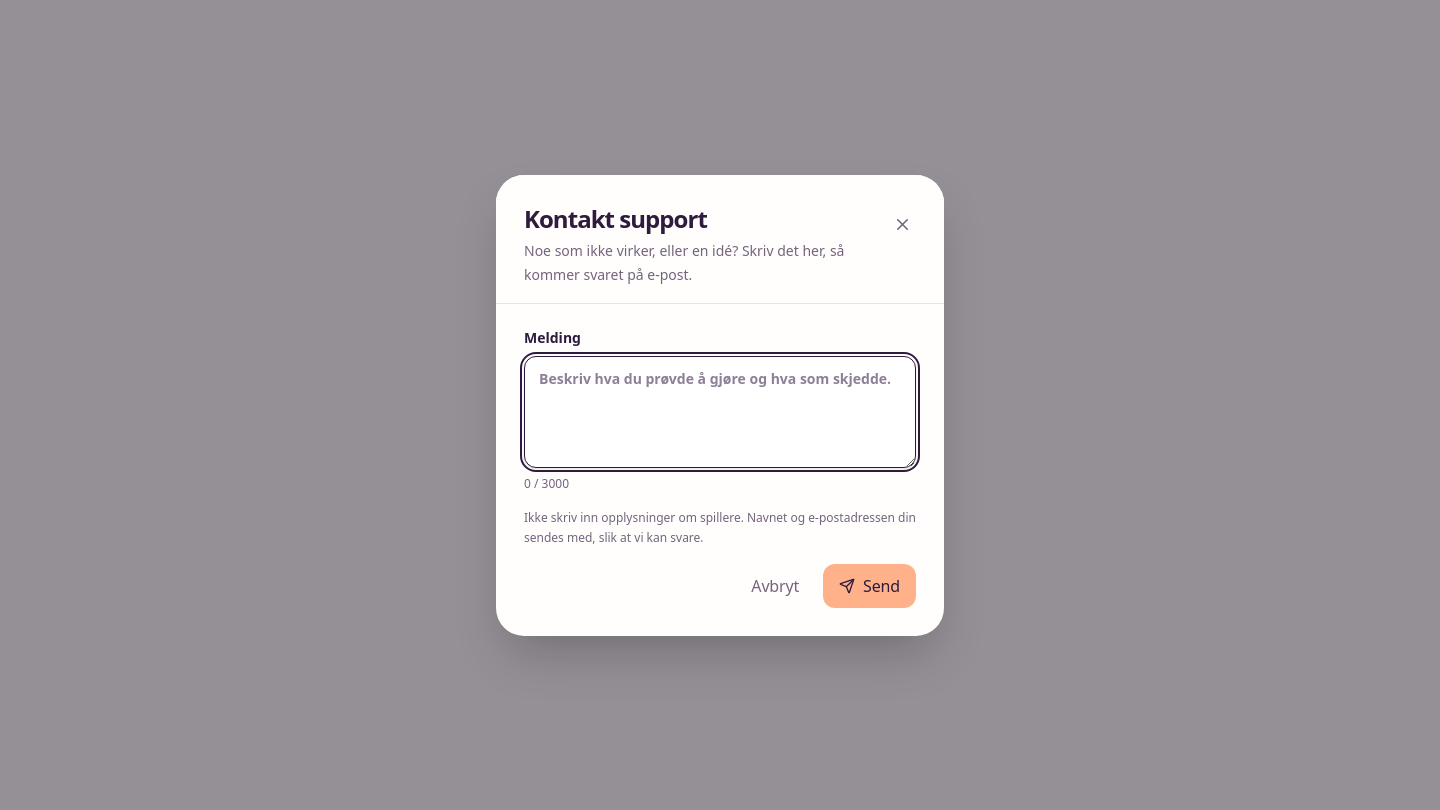
it: support dialog › sends the message with the page it was opened on and confirms
The width and height of the screenshot is (1440, 810).
In the text box: (720, 412) [524,356,916,468], type "Kalenderen er tom"
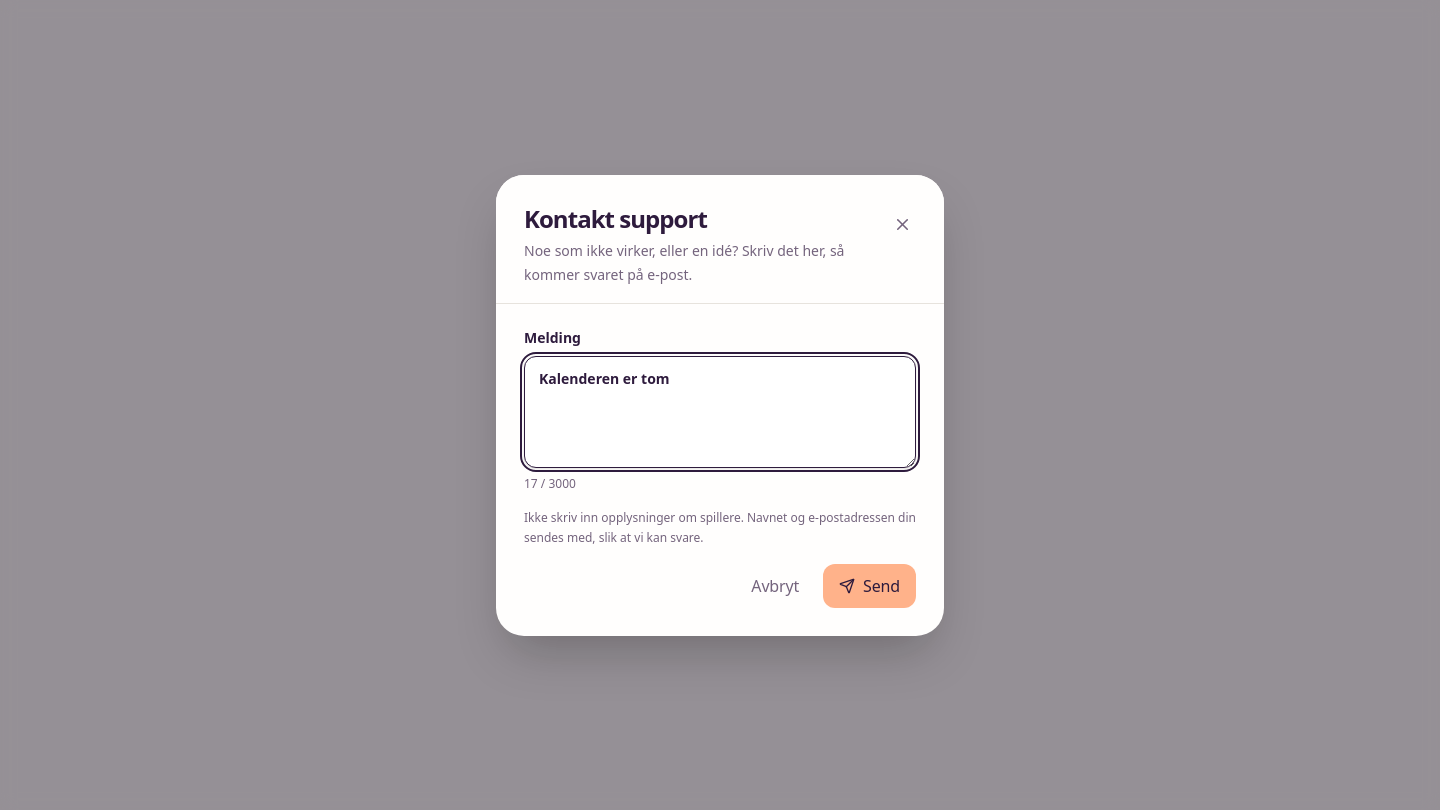
Click the button "Send": (870, 586) [823,564,916,608]
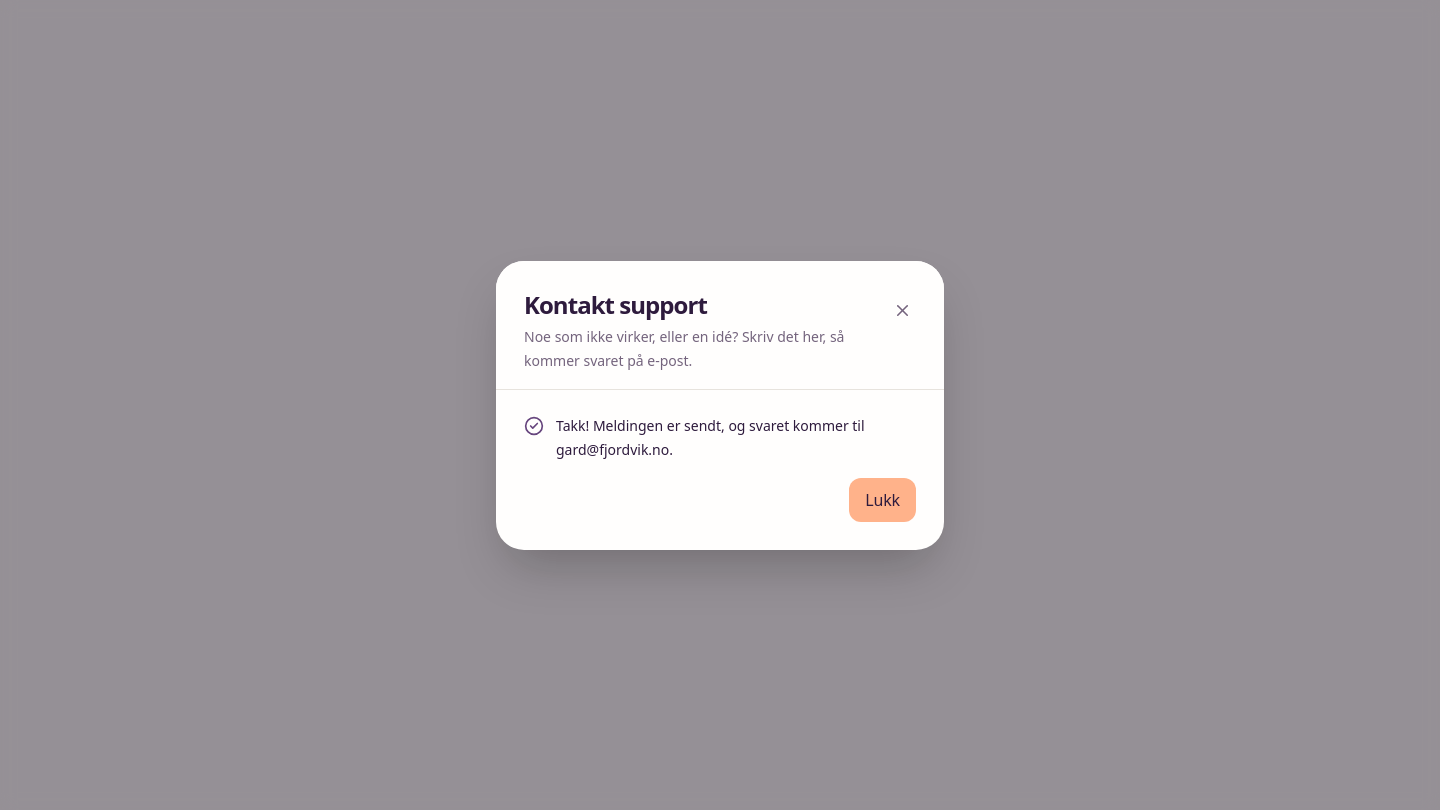
Check: the message shows "gard@fjordvik.no", box [556,440,669,458]
